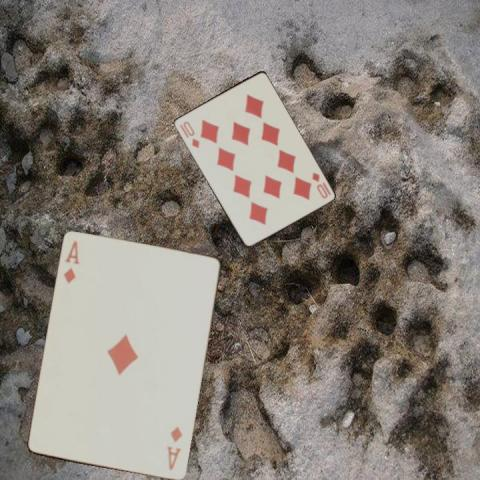10d: (176, 118, 201, 149), (308, 169, 329, 200)
Ad: (164, 424, 184, 472), (60, 238, 80, 285)
